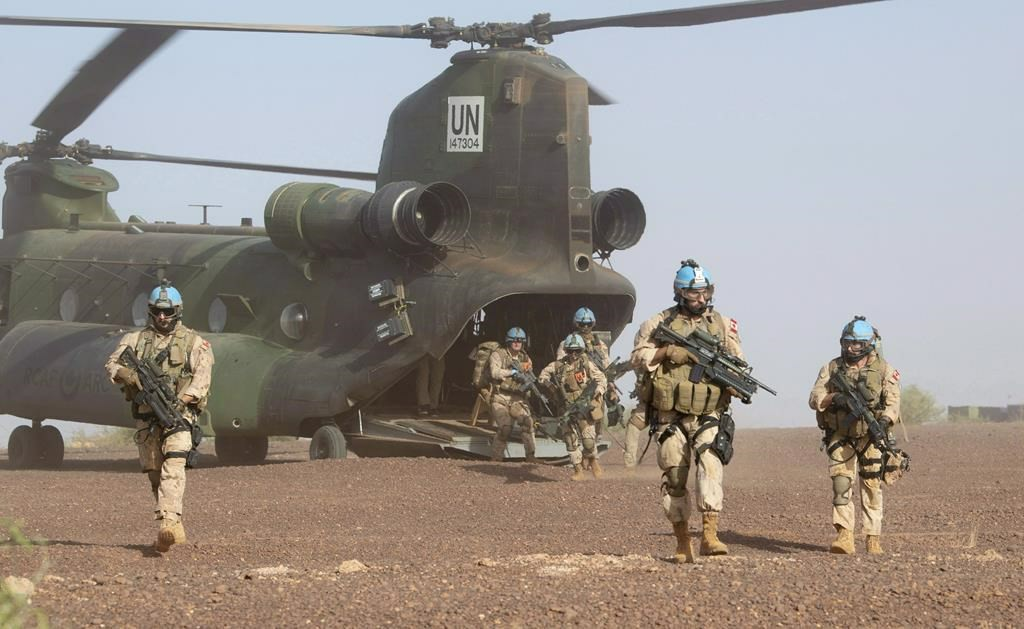chinook: (6, 13, 644, 468)
